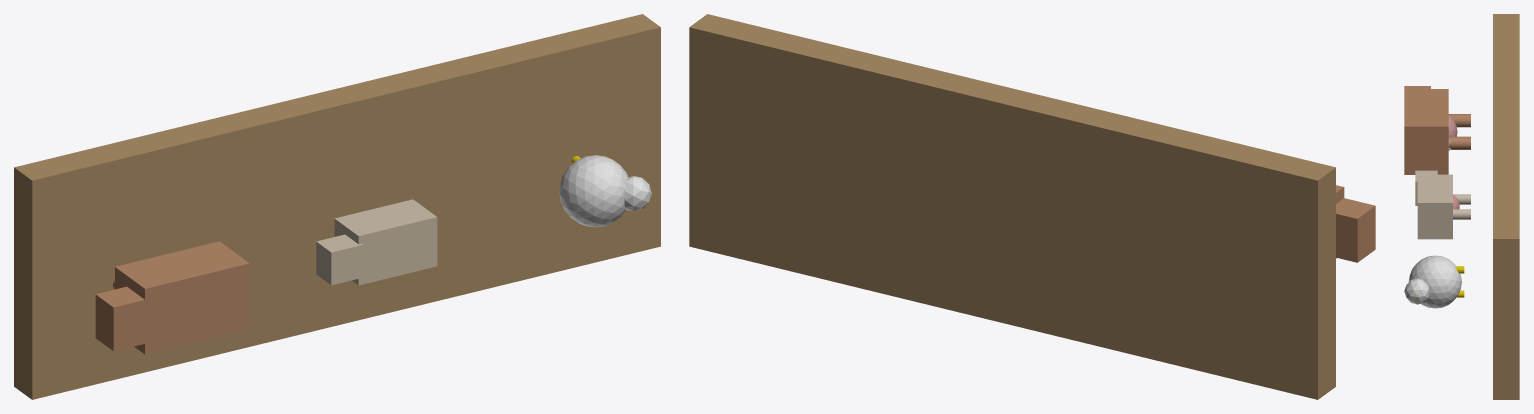
The model's file is livestock_anatomy.glb.
3 renders of one model, left to right at view 1: azimuth 30°, elevation 25°; view 2: azimuth 150°, elevation 25°; view 3: azimuth 270°, elevation 25°, orthographic. The views are drawn at different scales.
Visible parts, largest first — view 1: world; view 2: world; view 3: world.
Boxes of the visible parts, x1,y1,x2,y2 form: world: [14, 14, 660, 399]; world: [689, 14, 1375, 399]; world: [1404, 14, 1519, 399].
Bounding box in the file's own units: 12 × 4 × 2.6.
